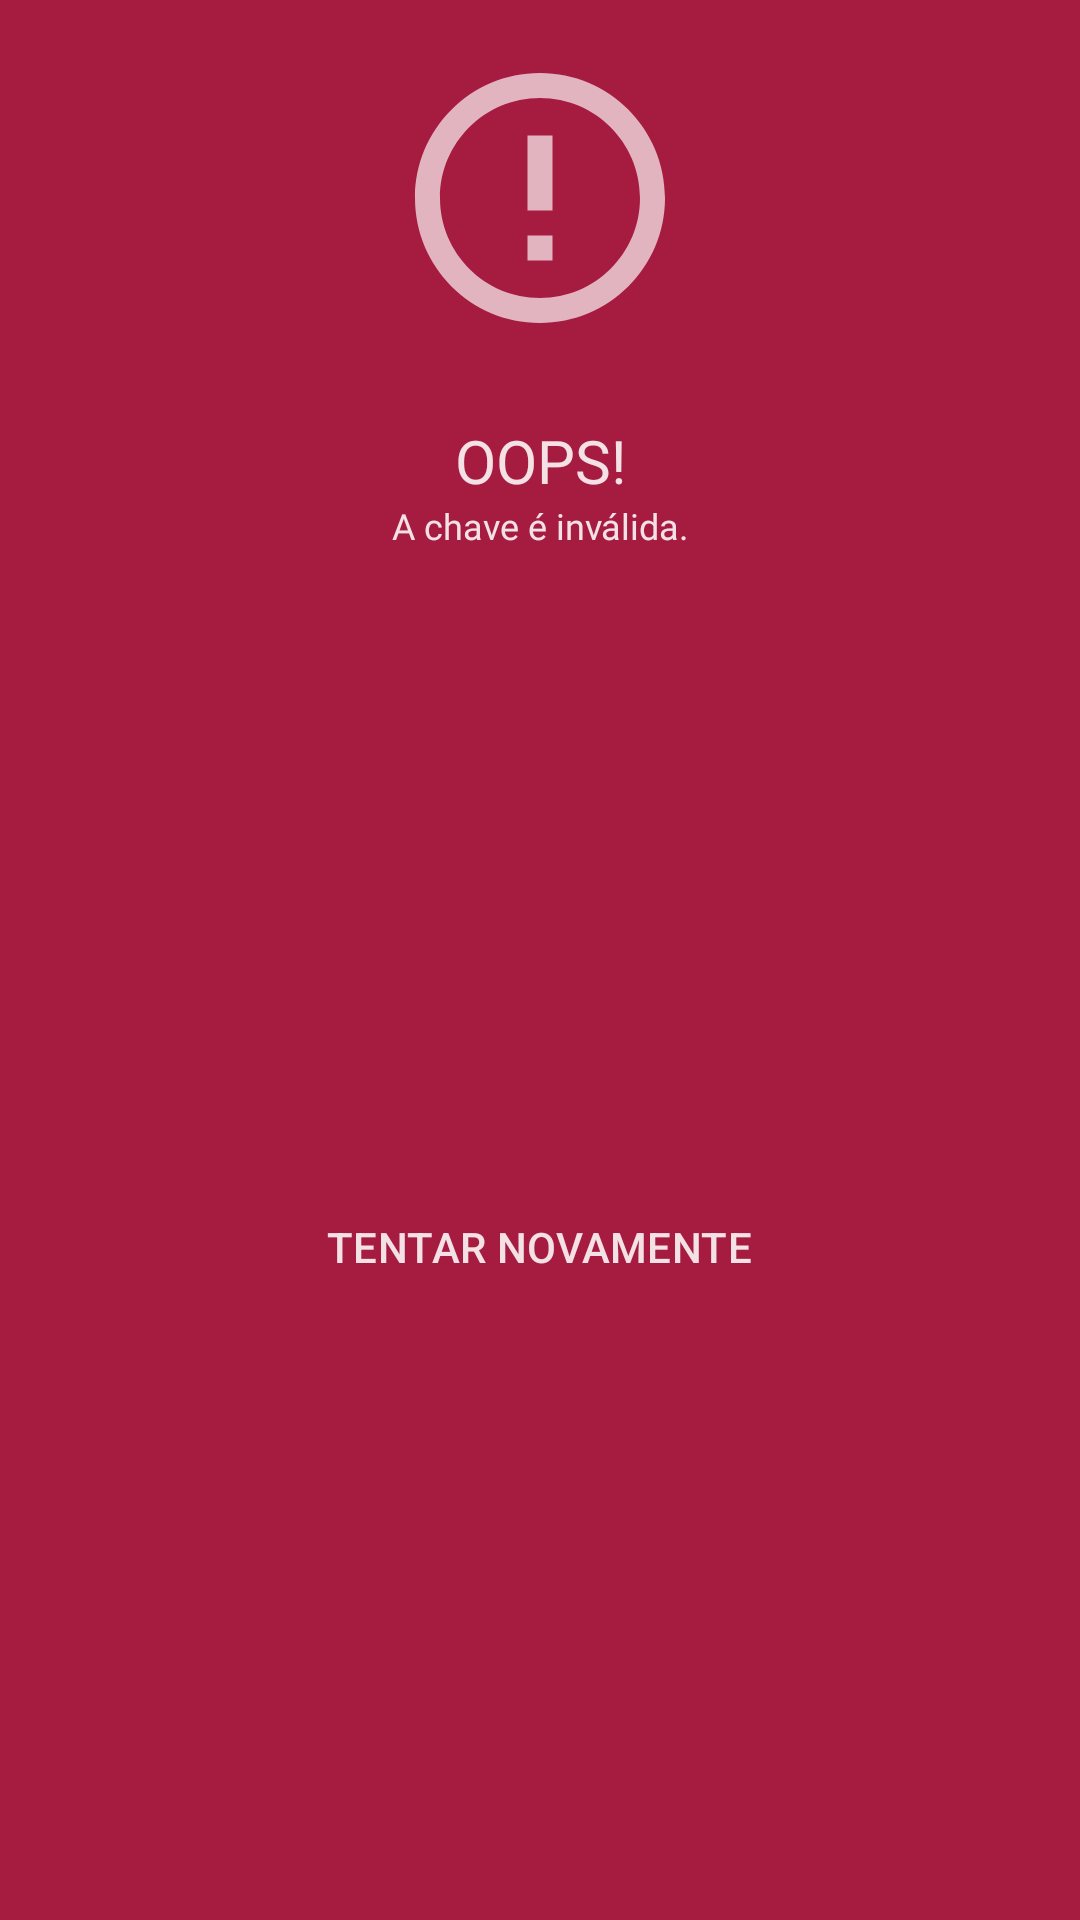

Icons on this 1080×1920 Android screen, each with the point to tap as [x,y]:
error: [540,198]
